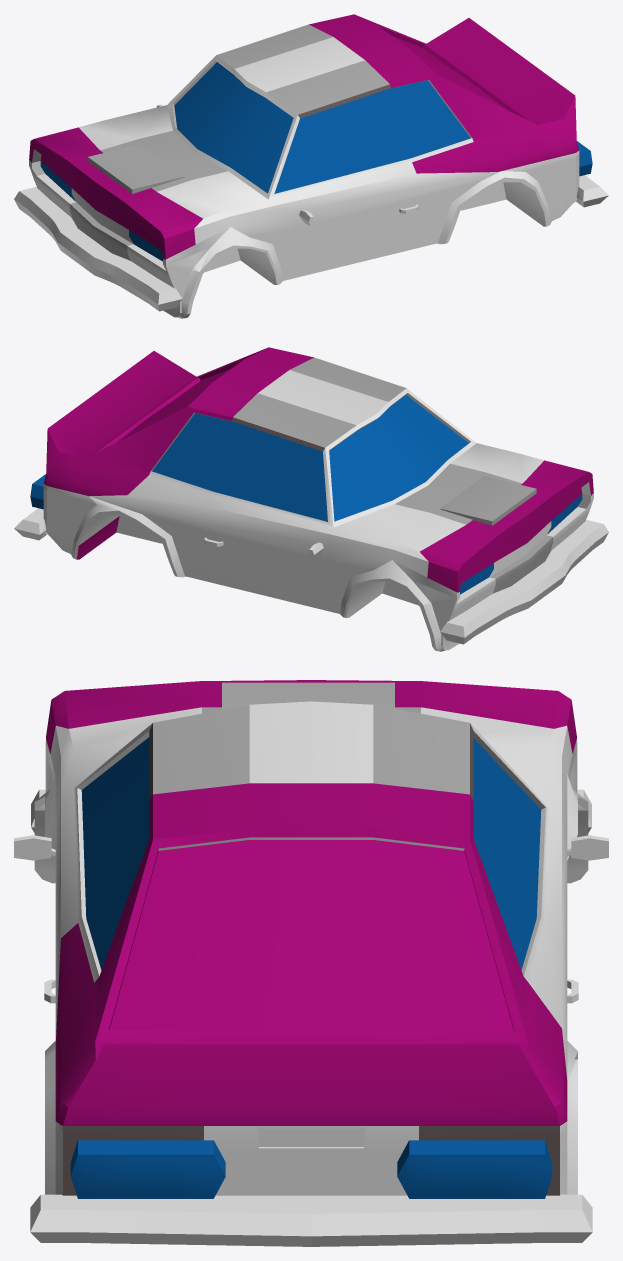
File: car_5.fbx
3 views of the same model, one above another, from view 1: azimuth 30°, elevation 25°; view 2: azimuth 150°, elevation 25°; view 3: azimuth 270°, elevation 25° (orthographic). The views are drawn at different scales.
Parts seen in each view (by area): view 1: polySurface854; view 2: polySurface854; view 3: polySurface854.
Part boxes in pixels (x1=…): polySurface854: x1=14, y1=14, x2=608, y2=318; polySurface854: x1=14, y1=347, x2=608, y2=651; polySurface854: x1=14, y1=680, x2=608, y2=1246.
Size of the model in its own units: 346 by 116 by 197.
